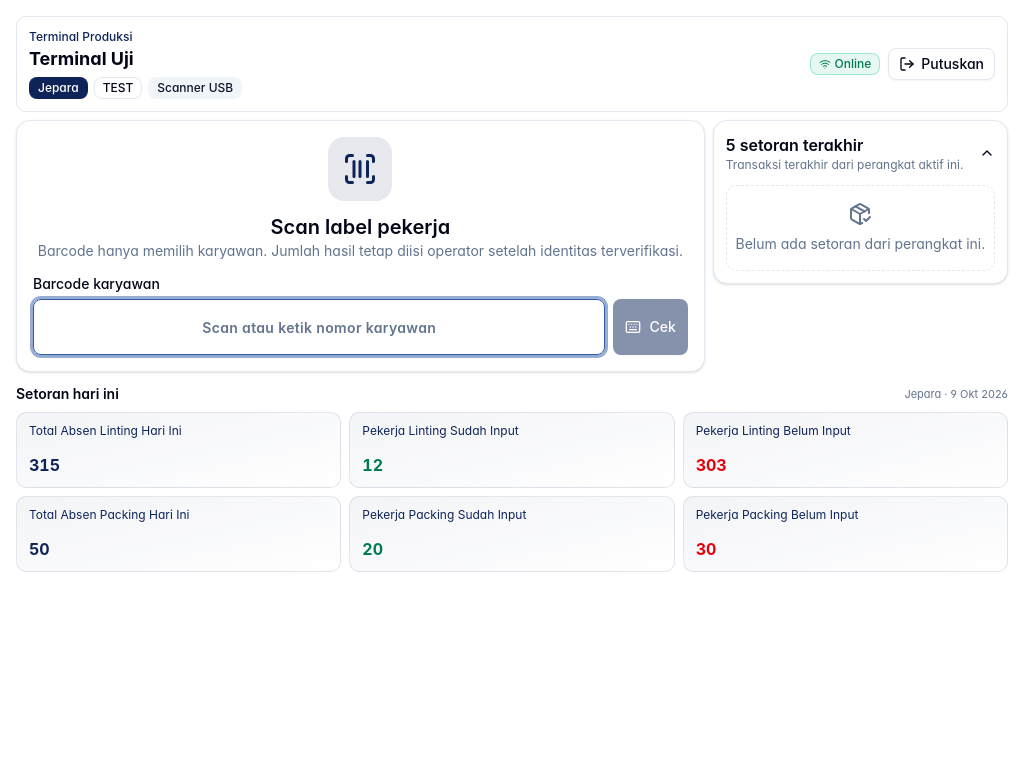
Test case: compact production deposit form › keeps the accordion usable when browser preference storage is restricted
The width and height of the screenshot is (1024, 768).
Click the button "5 setoran terakhir" at [860, 153], box [726, 133, 995, 173]
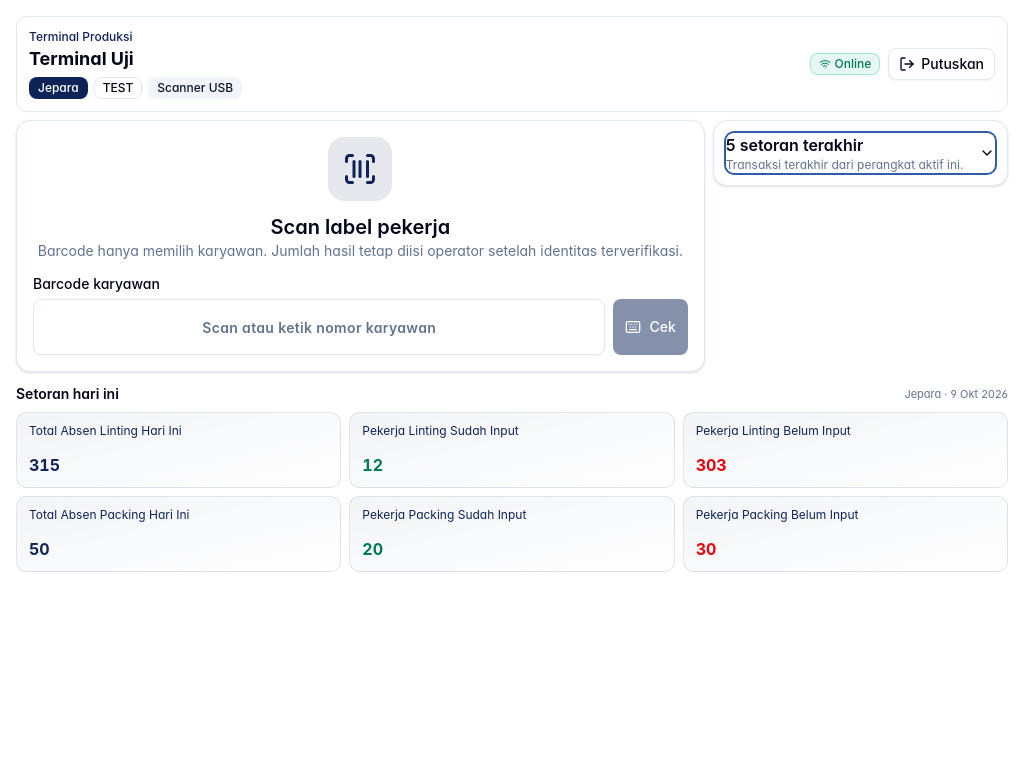
expect the button "5 setoran terakhir" is collapsed: met, box [726, 133, 995, 173]
